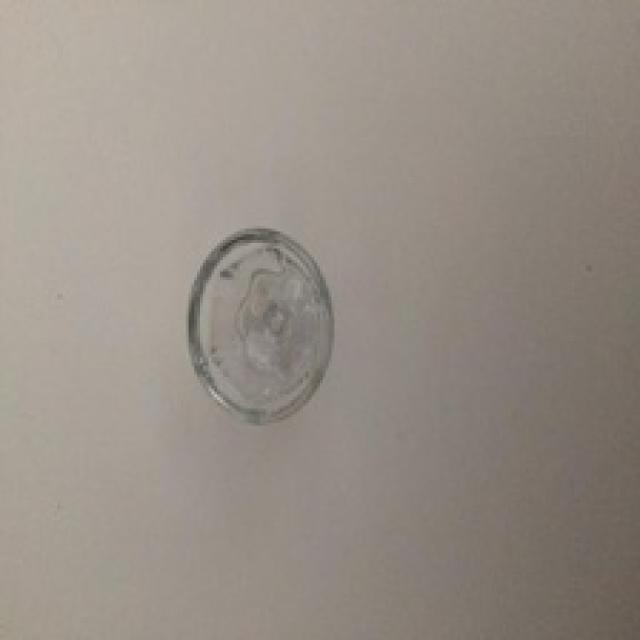Glass: (189, 228, 335, 427)
